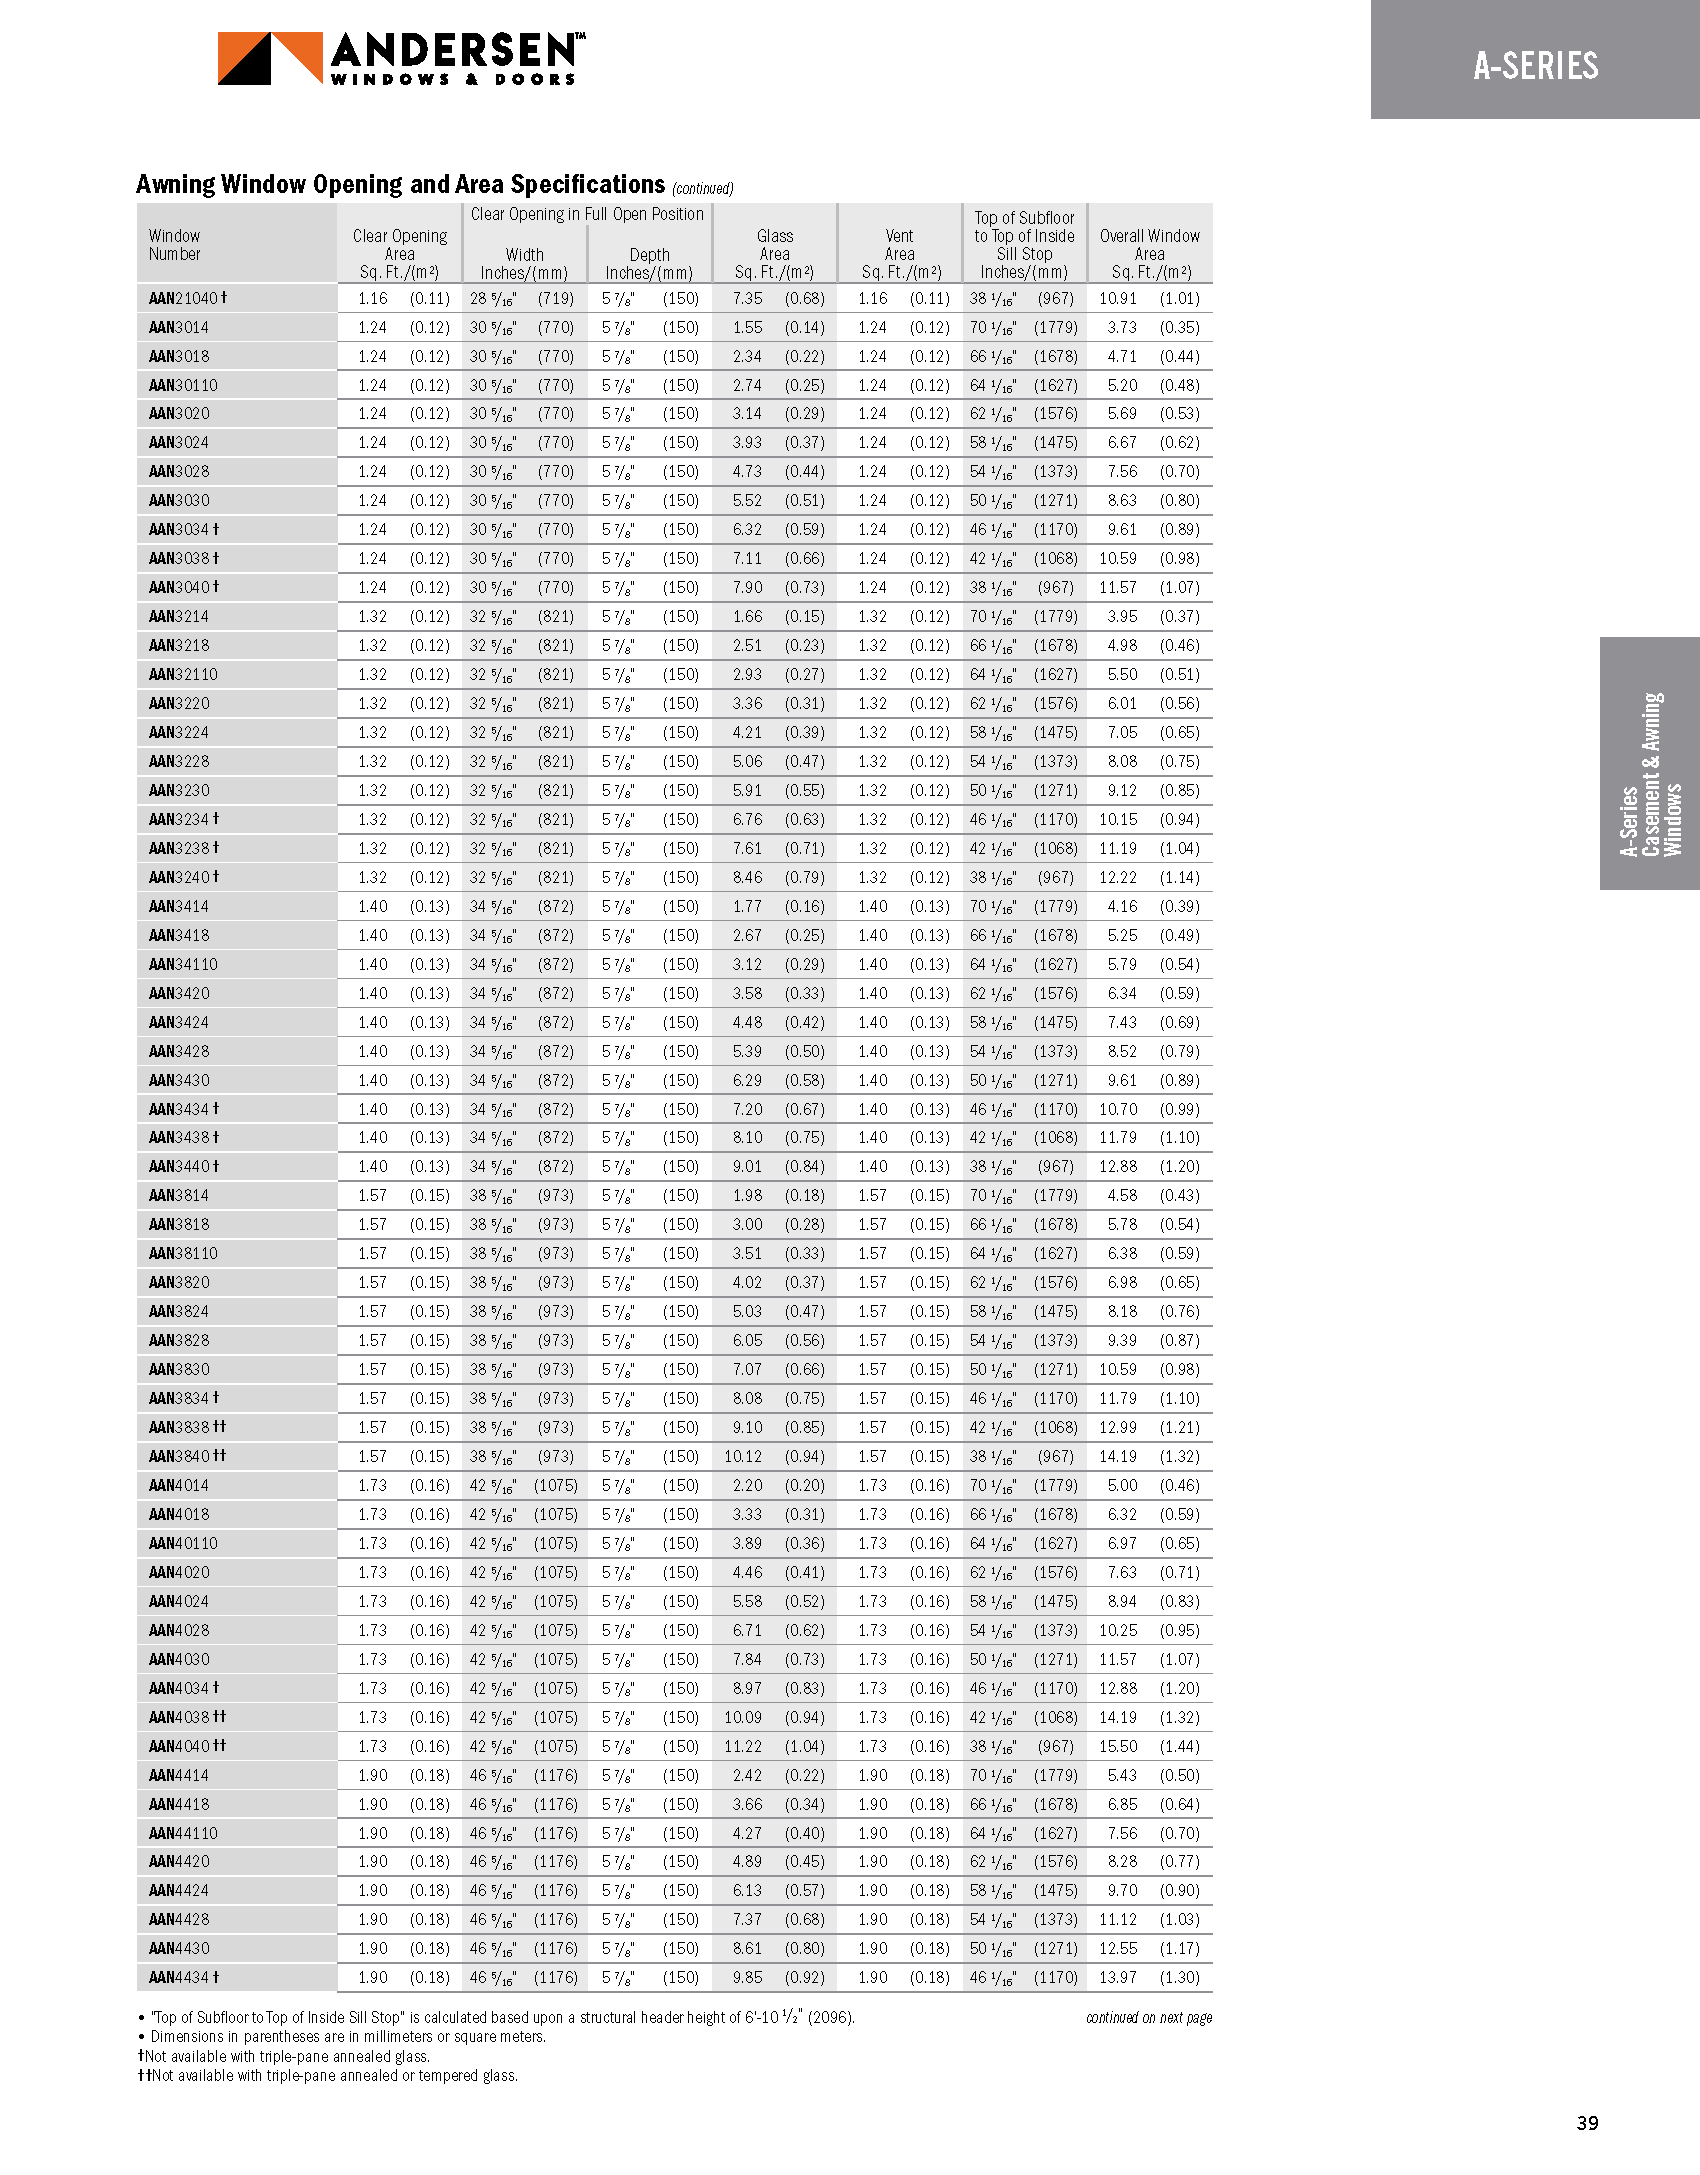tabledetected: (145, 208, 1215, 1991)
